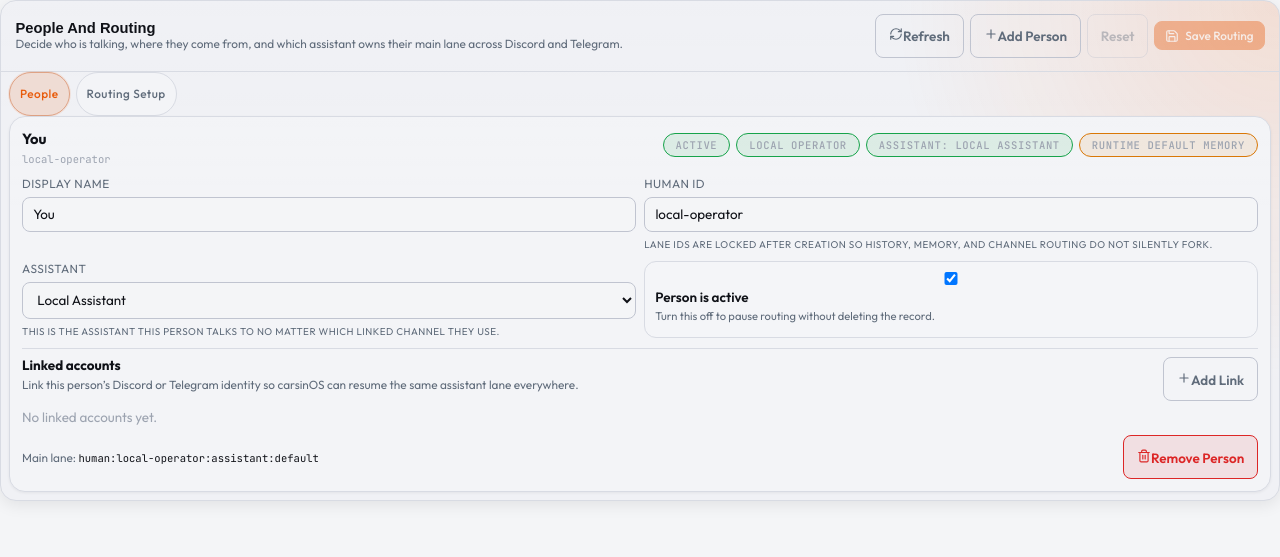
PeopleRoutingSection authoritative Directory home › refuses to remove the local operator and resets the draft on demand
The width and height of the screenshot is (1280, 557).
Click the button "Remove Person" at {"x": 1191, "y": 457}, box [1123, 435, 1258, 479]
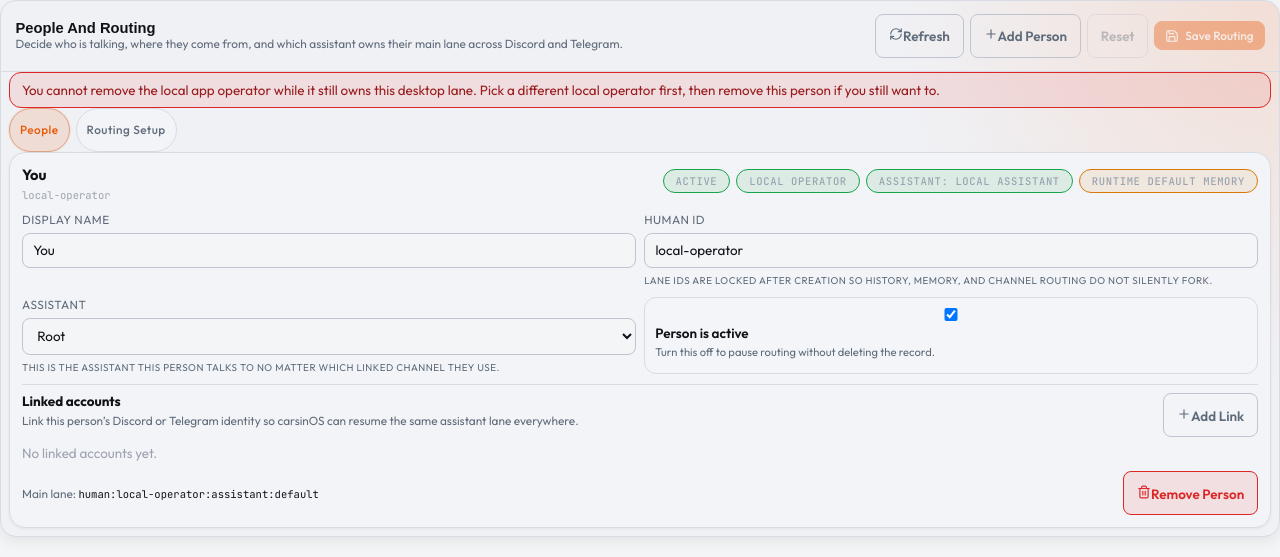
Expected: the text "local-operator" is shown, [22, 188, 111, 202]
Expected: the text "You cannot remove the local app operator" is shown, [22, 82, 940, 98]
Select "Root" in the dropdown at {"x": 329, "y": 336}, box [22, 318, 636, 355]
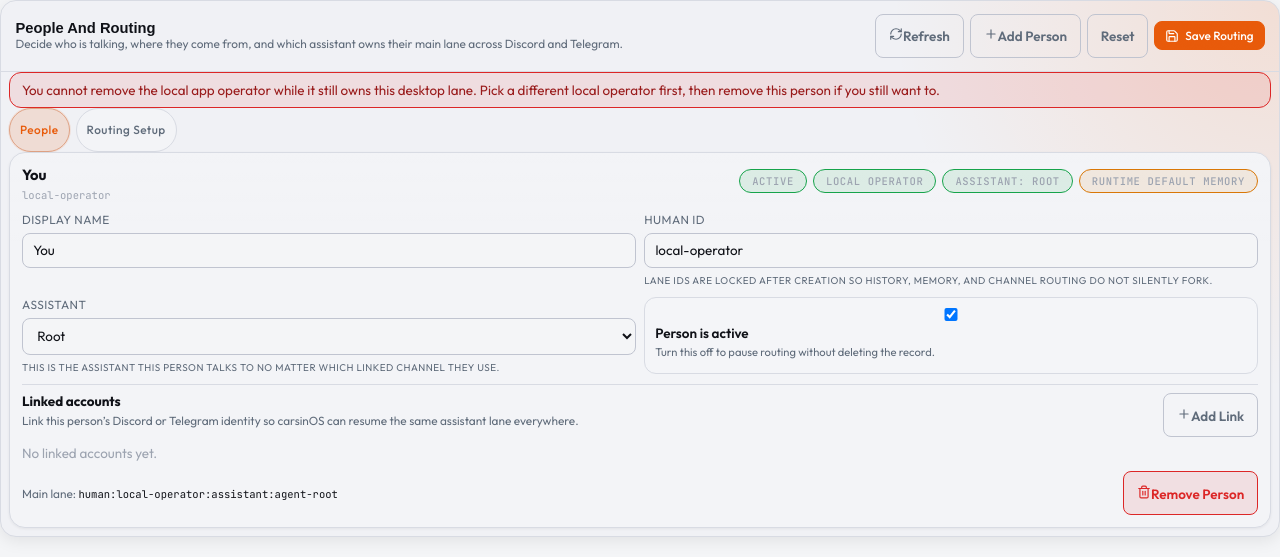
Expected: the text "assistant: Root" is shown, [942, 168, 1073, 192]
Click the button "Reset" at {"x": 1118, "y": 36}, box [1087, 14, 1148, 58]
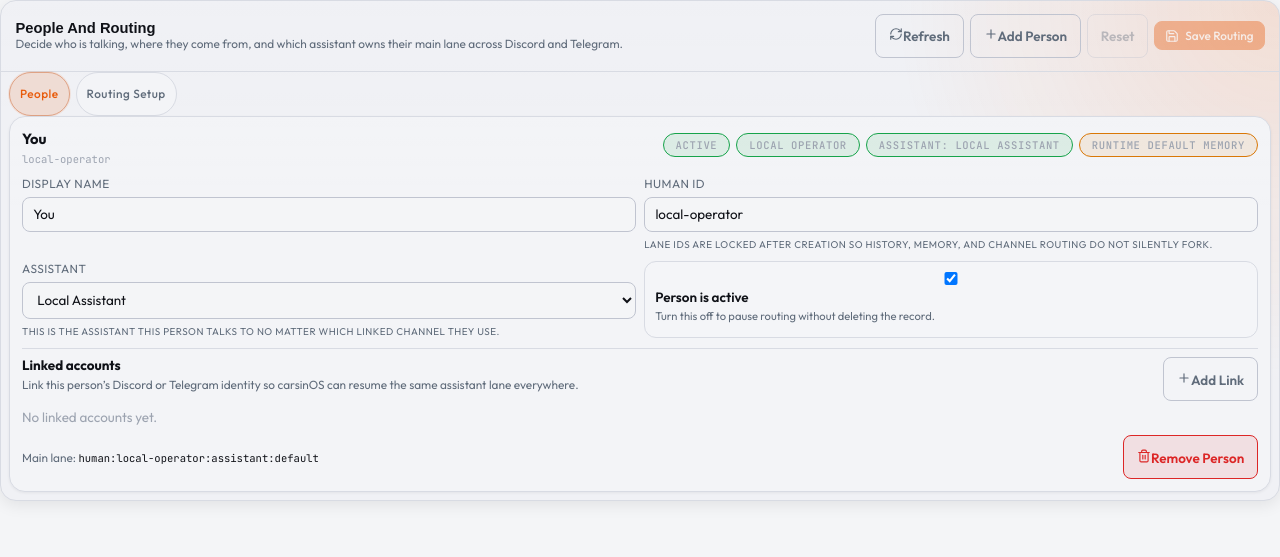
Expected: the text "assistant: Local Assistant" is shown, [866, 133, 1073, 157]
